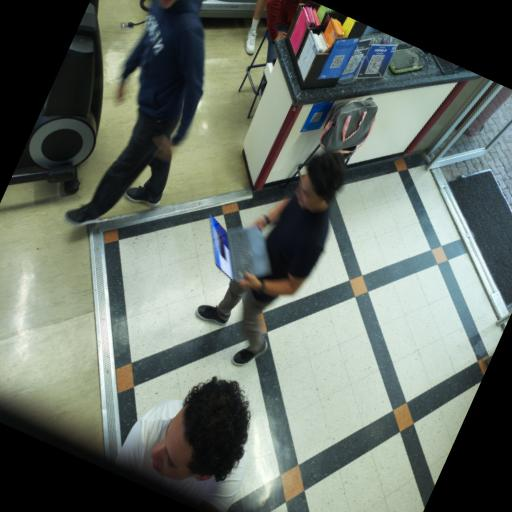person: (196, 153, 345, 365), (64, 0, 203, 225), (115, 377, 249, 511), (265, 0, 308, 62), (245, 0, 266, 54)
